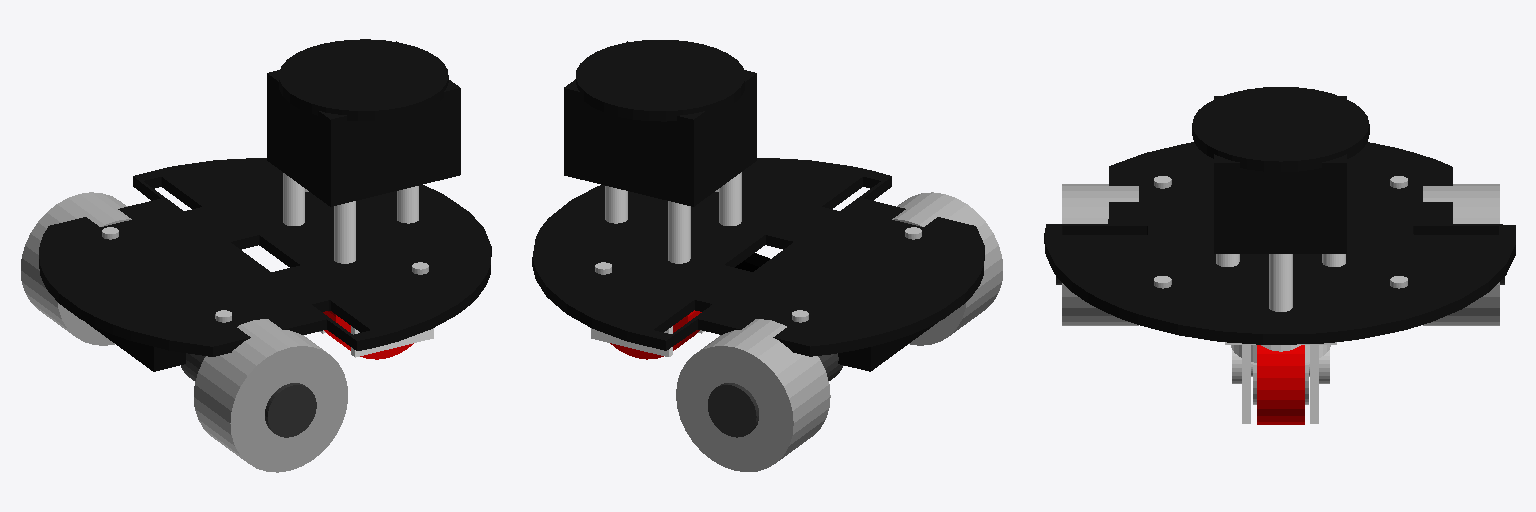
robot.urdf — orange_pi_car:
<?xml version="1.0"?>
<robot name="orange_pi_car">
  <material name="caster_red"><color rgba="0.95 0.02 0.02 1"/></material>
  <material name="caster_silver"><color rgba="0.80 0.80 0.80 1"/></material>
  <material name="caster_white"><color rgba="0.98 0.98 0.98 1"/></material>
  <material name="caster_black"><color rgba="0.02 0.02 0.02 1"/></material>
  <!-- base_link为车体坐标系，odom到base_link由香橙派EKF发布 -->

  <!-- 底盘：底板STL由控制板DXF外形和轮槽生成 -->
  <link name="base_link">
    <visual>
      <origin xyz="0 0 0.043" rpy="0 0 3.14159"/>
      <geometry><mesh filename="package://car_pkg/urdf/base_plate.stl"/></geometry>
      <material name="black"><color rgba="0.10 0.10 0.10 1"/></material>
    </visual>
    <!-- 电池和两个电机 -->
    <visual>
      <origin xyz="-0.030 0 0.033" rpy="0 0 0"/>
      <geometry><box size="0.060 0.050 0.016"/></geometry>
      <material name="battery"><color rgba="0.08 0.08 0.08 1"/></material>
    </visual>
    <visual>
      <origin xyz="-0.033 0.045 0.027" rpy="1.5708 0 0"/>
      <geometry><cylinder radius="0.014" length="0.050"/></geometry>
      <material name="motor"><color rgba="0.30 0.30 0.30 1"/></material>
    </visual>
    <visual>
      <origin xyz="-0.033 -0.045 0.027" rpy="1.5708 0 0"/>
      <geometry><cylinder radius="0.014" length="0.050"/></geometry>
      <material name="motor"><color rgba="0.30 0.30 0.30 1"/></material>
    </visual>
    <!-- 固定螺钉 -->
    <visual>
      <origin xyz="0.040 0.040 0.048" rpy="0 0 0"/>
      <geometry><cylinder radius="0.003" length="0.002"/></geometry>
      <material name="screw"><color rgba="0.80 0.80 0.80 1"/></material>
    </visual>
    <visual>
      <origin xyz="0.040 -0.040 0.048" rpy="0 0 0"/>
      <geometry><cylinder radius="0.003" length="0.002"/></geometry>
      <material name="screw"><color rgba="0.80 0.80 0.80 1"/></material>
    </visual>
    <visual>
      <origin xyz="-0.040 0.040 0.048" rpy="0 0 0"/>
      <geometry><cylinder radius="0.003" length="0.002"/></geometry>
      <material name="screw"><color rgba="0.80 0.80 0.80 1"/></material>
    </visual>
    <visual>
      <origin xyz="-0.040 -0.040 0.048" rpy="0 0 0"/>
      <geometry><cylinder radius="0.003" length="0.002"/></geometry>
      <material name="screw"><color rgba="0.80 0.80 0.80 1"/></material>
    </visual>
    <collision><origin xyz="0 0 0" rpy="0 0 3.14159"/><geometry><mesh filename="package://car_pkg/urdf/base_plate.stl"/></geometry></collision>
  </link>

  <!-- 左右驱动轮，半径24mm，轮距122mm，安装在底盘后部的两个轮槽里 -->
  <joint name="left_wheel_joint" type="fixed">
    <parent link="base_link"/>
    <child link="left_wheel"/>
    <origin xyz="-0.033 0.061 0.024" rpy="1.5708 0 0"/>
  </joint>
  <link name="left_wheel">
    <visual>
      <geometry><cylinder radius="0.024" length="0.026"/></geometry>
      <material name="silver"><color rgba="0.72 0.72 0.72 1"/></material>
    </visual>
    <visual>
      <geometry><cylinder radius="0.010" length="0.030"/></geometry>
      <material name="hub"><color rgba="0.25 0.25 0.25 1"/></material>
    </visual>
    <collision><geometry><cylinder radius="0.024" length="0.026"/></geometry></collision>
  </link>

  <joint name="right_wheel_joint" type="fixed">
    <parent link="base_link"/>
    <child link="right_wheel"/>
    <origin xyz="-0.033 -0.061 0.024" rpy="1.5708 0 0"/>
  </joint>
  <link name="right_wheel">
    <visual>
      <geometry><cylinder radius="0.024" length="0.026"/></geometry>
      <material name="silver"><color rgba="0.72 0.72 0.72 1"/></material>
    </visual>
    <visual>
      <geometry><cylinder radius="0.010" length="0.030"/></geometry>
      <material name="hub"><color rgba="0.25 0.25 0.25 1"/></material>
    </visual>
    <collision><geometry><cylinder radius="0.024" length="0.026"/></geometry></collision>
  </link>

  <!-- 车头万向轮：支架和顶板、轮子、轮毂和刹车杆 -->
  <joint name="caster_joint" type="fixed">
    <parent link="base_link"/>
    <child link="caster_link"/>
    <origin xyz="0.045 0 0.020" rpy="0 0 3.14159"/>
  </joint>
  <link name="caster_link">
    <!-- 左右两片支架，夹住轮子 -->
    <visual>
      <origin xyz="0 0.0115 0.002" rpy="0 0 0"/>
      <geometry><box size="0.032 0.003 0.034"/></geometry>
      <material name="caster_white"/>
    </visual>
    <visual>
      <origin xyz="0 -0.0115 0.002" rpy="0 0 0"/>
      <geometry><box size="0.032 0.003 0.034"/></geometry>
      <material name="caster_white"/>
    </visual>
    <!-- 旋转座和顶部安装板，顶板贴着底盘下表面 -->
    <visual>
      <origin xyz="0 0 0.012" rpy="0 0 0"/>
      <geometry><cylinder radius="0.017" length="0.010"/></geometry>
      <material name="caster_white"/>
    </visual>
    <visual>
      <origin xyz="0 0 0.021" rpy="0 0 0"/>
      <geometry><box size="0.052 0.038 0.004"/></geometry>
      <material name="caster_white"/>
    </visual>
  </link>

  <joint name="caster_wheel_joint" type="fixed">
    <parent link="caster_link"/>
    <child link="caster_wheel_link"/>
    <origin xyz="0 0 0" rpy="0 0 0"/>
  </joint>
  <link name="caster_wheel_link">
    <!-- 橡胶轮，半径21mm，轮底在z=0 -->
    <visual>
      <origin xyz="0 0 0" rpy="1.5708 0 0"/>
      <geometry><cylinder radius="0.021" length="0.016"/></geometry>
      <material name="caster_red"/>
    </visual>
    <collision>
      <origin xyz="0 0 0" rpy="1.5708 0 0"/>
      <geometry><cylinder radius="0.021" length="0.020"/></geometry>
    </collision>
  </link>

  <joint name="caster_hub_joint" type="fixed">
    <parent link="caster_link"/>
    <child link="caster_hub_link"/>
    <origin xyz="0 0 0" rpy="0 0 0"/>
  </joint>
  <link name="caster_hub_link">
    <!-- 轮毂、贯穿轮轴和顶板四角螺栓 -->
    <visual>
      <origin xyz="0 0 0" rpy="1.5708 0 0"/>
      <geometry><cylinder radius="0.014" length="0.019"/></geometry>
      <material name="caster_silver"/>
    </visual>
    <visual>
      <origin xyz="0 0 0" rpy="1.5708 0 0"/>
      <geometry><cylinder radius="0.0045" length="0.026"/></geometry>
      <material name="caster_silver"/>
    </visual>
    <!-- 两侧外露的轮毂盖 -->
    <visual>
      <origin xyz="0 0.0145 0" rpy="1.5708 0 0"/>
      <geometry><cylinder radius="0.007" length="0.004"/></geometry>
      <material name="caster_silver"/>
    </visual>
    <visual>
      <origin xyz="0 -0.0145 0" rpy="1.5708 0 0"/>
      <geometry><cylinder radius="0.007" length="0.004"/></geometry>
      <material name="caster_silver"/>
    </visual>
    <visual>
      <origin xyz="0.020 0.014 0.023" rpy="0 0 0"/>
      <geometry><cylinder radius="0.0025" length="0.002"/></geometry>
      <material name="caster_silver"/>
    </visual>
    <visual>
      <origin xyz="0.020 -0.014 0.023" rpy="0 0 0"/>
      <geometry><cylinder radius="0.0025" length="0.002"/></geometry>
      <material name="caster_silver"/>
    </visual>
    <visual>
      <origin xyz="-0.020 0.014 0.023" rpy="0 0 0"/>
      <geometry><cylinder radius="0.0025" length="0.002"/></geometry>
      <material name="caster_silver"/>
    </visual>
    <visual>
      <origin xyz="-0.020 -0.014 0.023" rpy="0 0 0"/>
      <geometry><cylinder radius="0.0025" length="0.002"/></geometry>
      <material name="caster_silver"/>
    </visual>
  </link>

  <joint name="caster_brake_joint" type="fixed">
    <parent link="caster_link"/>
    <child link="caster_brake_link"/>
    <origin xyz="0 0 0" rpy="0 0 0"/>
  </joint>
  <link name="caster_brake_link">
    <!-- 刹车杆 -->
    <visual>
      <origin xyz="0.030 0.010 0.017" rpy="0 0.12 0"/>
      <geometry><box size="0.042 0.008 0.006"/></geometry>
      <material name="caster_black"/>
    </visual>
    <visual>
      <origin xyz="0.014 0.010 0.010" rpy="0 0 0"/>
      <geometry><box size="0.010 0.008 0.012"/></geometry>
      <material name="caster_black"/>
    </visual>
  </link>

  <!-- 激光雷达的三根支撑柱，位于车头 -->
  <joint name="laser_support_joint" type="fixed">
    <parent link="base_link"/>
    <child link="laser_support_link"/>
    <origin xyz="0.040 0 0.059" rpy="0 0 3.14159"/>
  </joint>
  <link name="laser_support_link">
    <visual>
      <origin xyz="-0.018 0 0" rpy="0 0 0"/>
      <geometry><cylinder radius="0.004" length="0.024"/></geometry>
      <material name="white"><color rgba="0.95 0.95 0.95 1"/></material>
    </visual>
    <visual>
      <origin xyz="0.018 0.018 0" rpy="0 0 0"/>
      <geometry><cylinder radius="0.004" length="0.024"/></geometry>
      <material name="white"><color rgba="0.95 0.95 0.95 1"/></material>
    </visual>
    <visual>
      <origin xyz="0.018 -0.018 0" rpy="0 0 0"/>
      <geometry><cylinder radius="0.004" length="0.024"/></geometry>
      <material name="white"><color rgba="0.95 0.95 0.95 1"/></material>
    </visual>
  </link>

  <!-- 激光雷达本体，挂在三根支柱上方；按雷达安装方向校正laser_link坐标轴 -->
  <joint name="laser_joint" type="fixed">
    <parent link="laser_support_link"/>
    <child link="laser_link"/>
    <origin xyz="0 0 0.029" rpy="0 3.14159 0"/>
  </joint>
  <link name="laser_link">
    <visual>
      <geometry><box size="0.053 0.045 0.034"/></geometry>
      <material name="black"><color rgba="0.10 0.10 0.10 1"/></material>
    </visual>
    <visual>
      <origin xyz="0 0 -0.017" rpy="0 0 0"/>
      <geometry><cylinder radius="0.030" length="0.004"/></geometry>
      <material name="black"><color rgba="0.10 0.10 0.10 1"/></material>
    </visual>
    <collision><geometry><box size="0.053 0.045 0.034"/></geometry></collision>
  </link>
</robot>

--- Render facts (derived) ---
3 views of the same robot in one strip: view 1: azimuth 30°, elevation 25°; view 2: azimuth 150°, elevation 25°; view 3: azimuth 270°, elevation 25° (orthographic).
Robot: orange_pi_car — 9 links, 8 joints (8 fixed); root link base_link; default pose: all joints at 0.
Visible links, largest first — view 1: base_link, laser_link, right_wheel, left_wheel, laser_support_link, caster_wheel_link, caster_link; view 2: base_link, laser_link, left_wheel, right_wheel, laser_support_link, caster_link, caster_wheel_link; view 3: base_link, laser_link, left_wheel, right_wheel, caster_wheel_link, caster_link, laser_support_link, caster_hub_link.
Boxes of the visible links, x1,y1,x2,y2 form: base_link: (39, 158, 491, 380); laser_link: (267, 39, 460, 206); right_wheel: (194, 319, 347, 472); left_wheel: (21, 192, 131, 345); laser_support_link: (283, 173, 418, 263); caster_wheel_link: (323, 311, 413, 359); caster_link: (319, 326, 433, 357); base_link: (532, 158, 984, 380); laser_link: (564, 40, 756, 206); left_wheel: (676, 319, 830, 471); right_wheel: (892, 192, 1002, 345); laser_support_link: (605, 172, 741, 263); caster_link: (591, 326, 704, 356); caster_wheel_link: (610, 310, 701, 359); base_link: (1044, 142, 1515, 344); laser_link: (1192, 87, 1369, 253); left_wheel: (1423, 184, 1504, 325); right_wheel: (1056, 184, 1138, 325); caster_wheel_link: (1257, 345, 1304, 424); caster_link: (1225, 342, 1336, 423); laser_support_link: (1216, 254, 1345, 311); caster_hub_link: (1232, 350, 1329, 404).
Bounding box of the posed robot: 0.1592 × 0.1594 × 0.108 m (x, y, z).
Meshes: 1 distinct files referenced, 1 mesh visuals loaded (1 binary STL).
